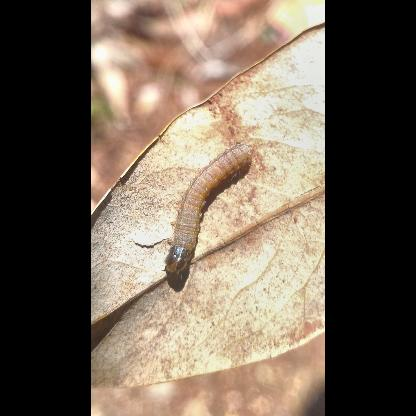Fall Armyworm Larvae: (162, 141, 256, 283)
